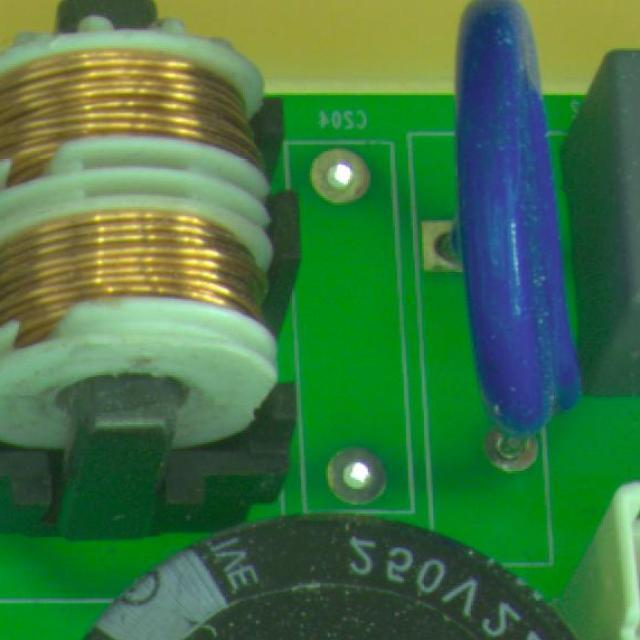Insufficient solder: (303, 130, 375, 210), (324, 443, 390, 511)
